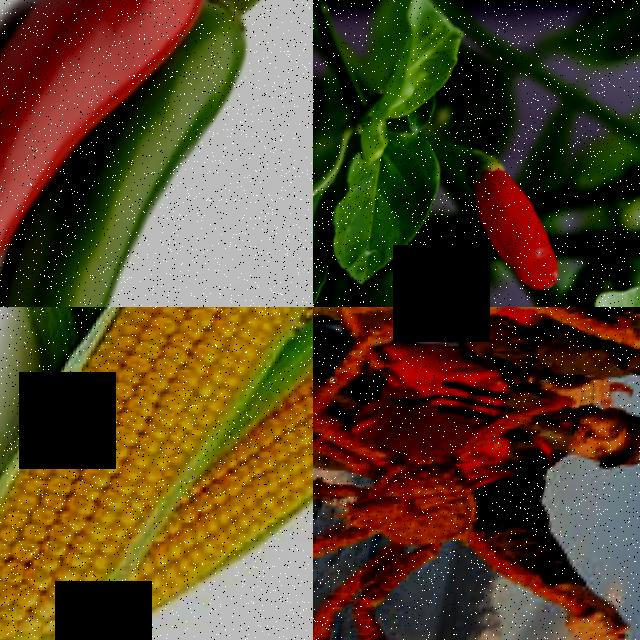chilli: (451, 144, 593, 300), (0, 173, 165, 307), (0, 52, 81, 307)
corn: (0, 377, 212, 640), (121, 411, 313, 640), (73, 307, 313, 416)
crab: (313, 535, 451, 640)
